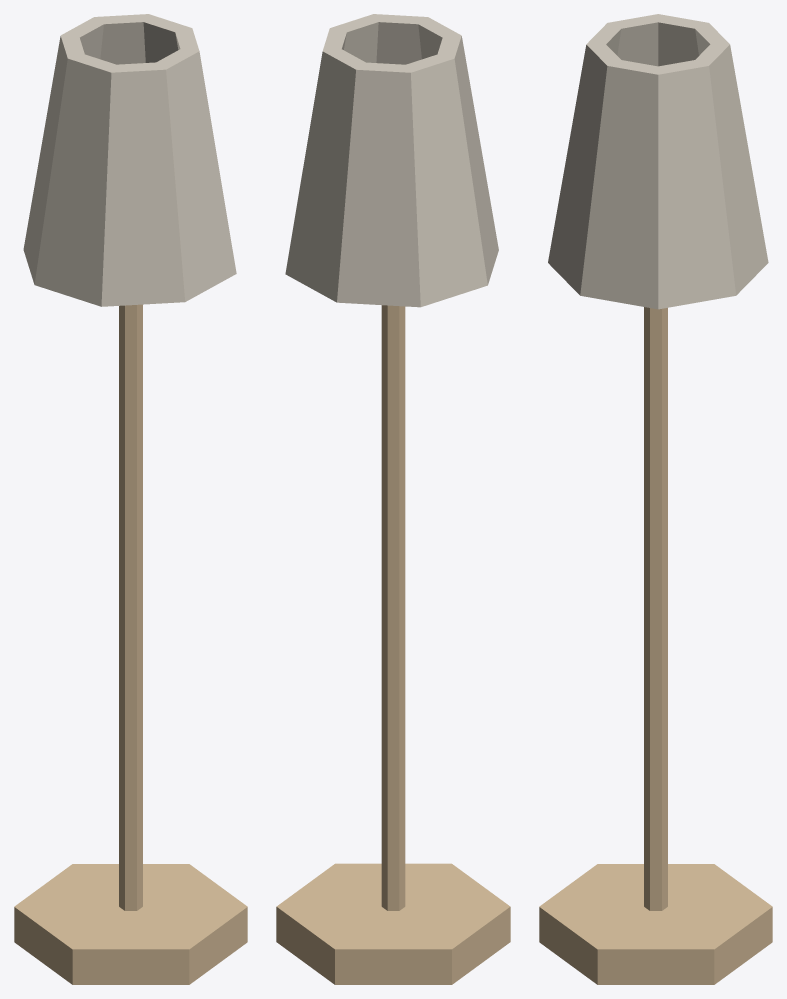
Rendered from floor_lamp.glb.
3 views of the same model, side by side, from view 1: azimuth 30°, elevation 25°; view 2: azimuth 150°, elevation 25°; view 3: azimuth 270°, elevation 25° (orthographic).
Visible parts, largest first — view 1: Lamp; view 2: Lamp; view 3: Lamp.
Part boxes in pixels (bbox=[...]): Lamp: bbox=[14, 14, 247, 984]; Lamp: bbox=[276, 14, 510, 984]; Lamp: bbox=[539, 14, 772, 984].
Size of the model in its own units: 0.2896 by 1.3 by 0.3065.
